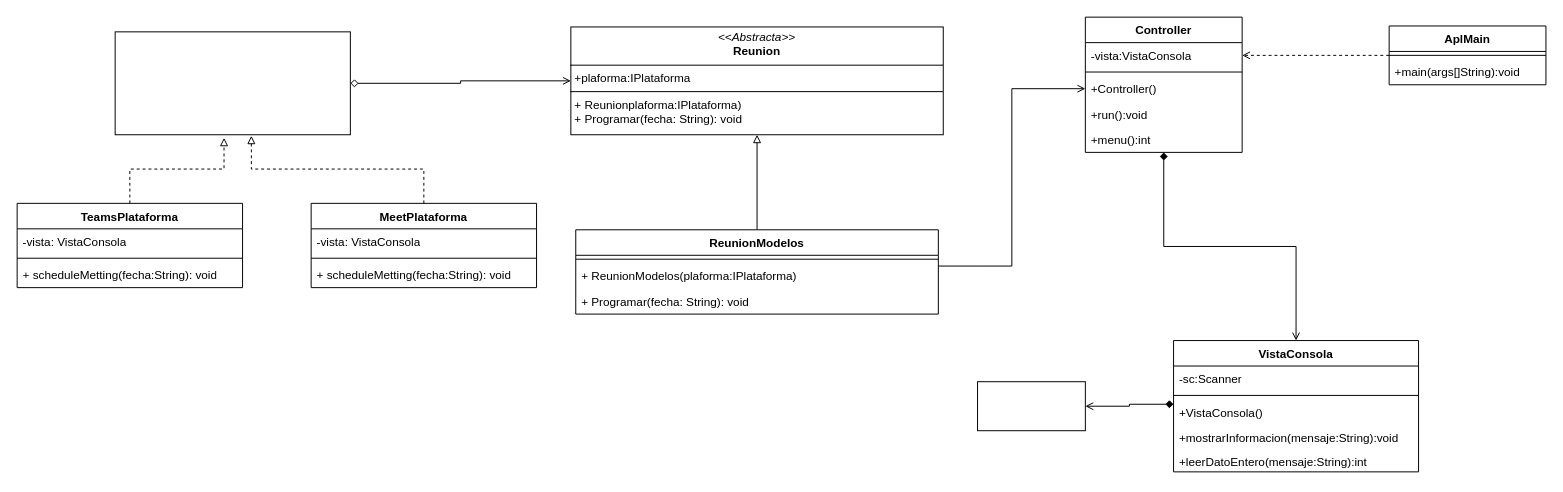
This 1563x492 diagram has some shape labels left out. Here are the shapes that lost their labels. From the top down, the centre of each, then its label:
At (x=232, y=83): "<<Interface>> IPlataforma + scheduleMetting(fecha:String): void".
At (x=1031, y=406): "<<primitive>> scanner".
